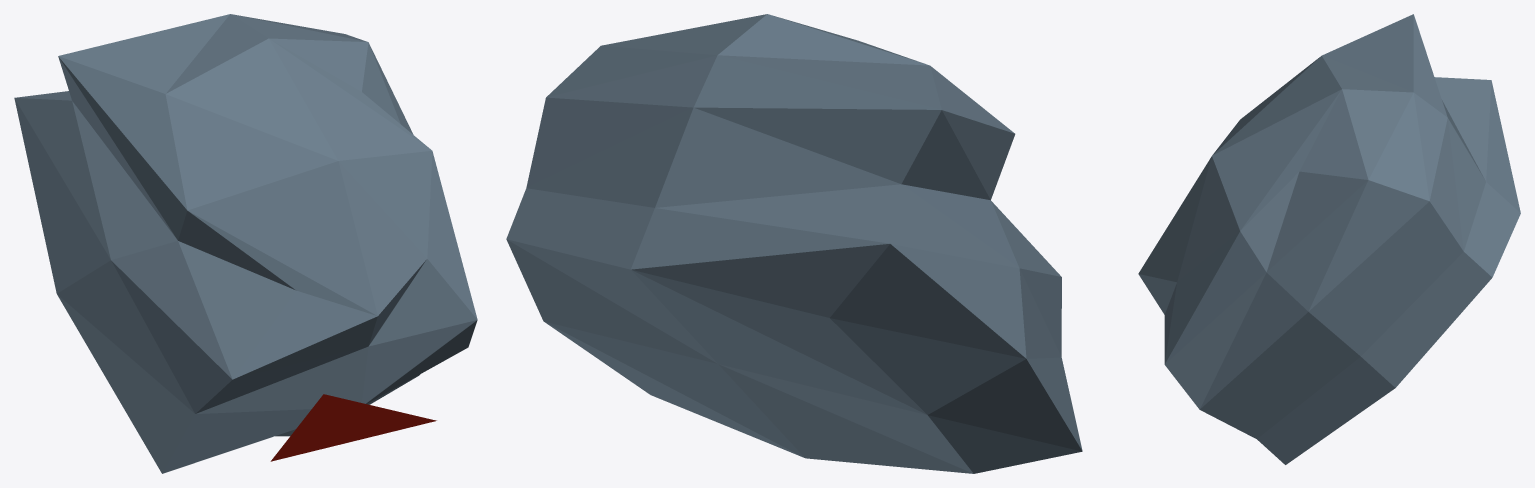
3 views of the same model, side by side, from view 1: azimuth 30°, elevation 25°; view 2: azimuth 150°, elevation 25°; view 3: azimuth 270°, elevation 25° (orthographic). The views are drawn at different scales.
Bounding box in the file's own units: 0.3051 × 0.3056 × 0.327.
2 materials, 2 textured.
